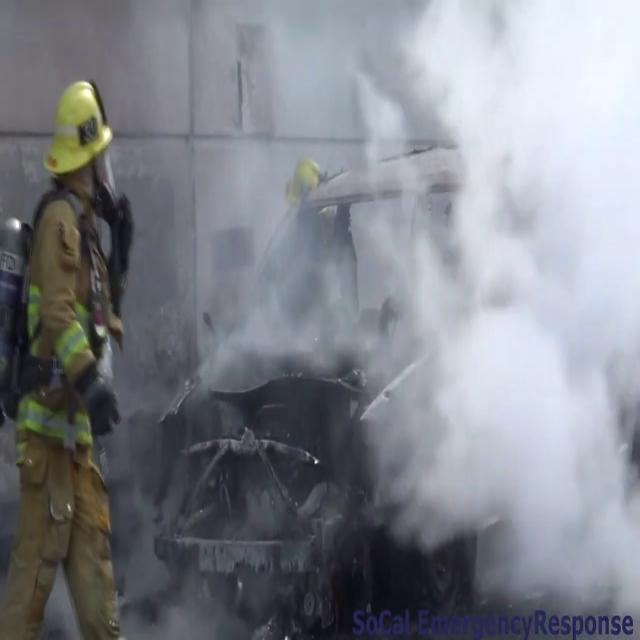Smoke: (94, 0, 640, 611)
